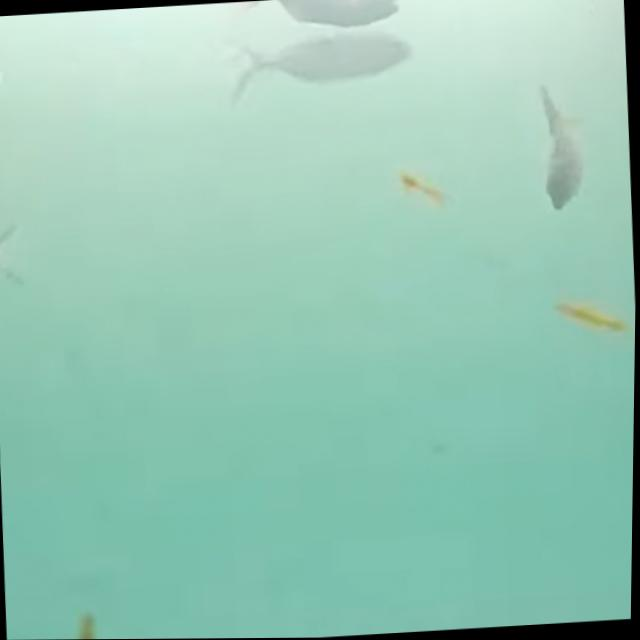fish: (222, 28, 425, 115), (520, 74, 600, 225), (233, 0, 405, 40), (0, 215, 31, 310)
